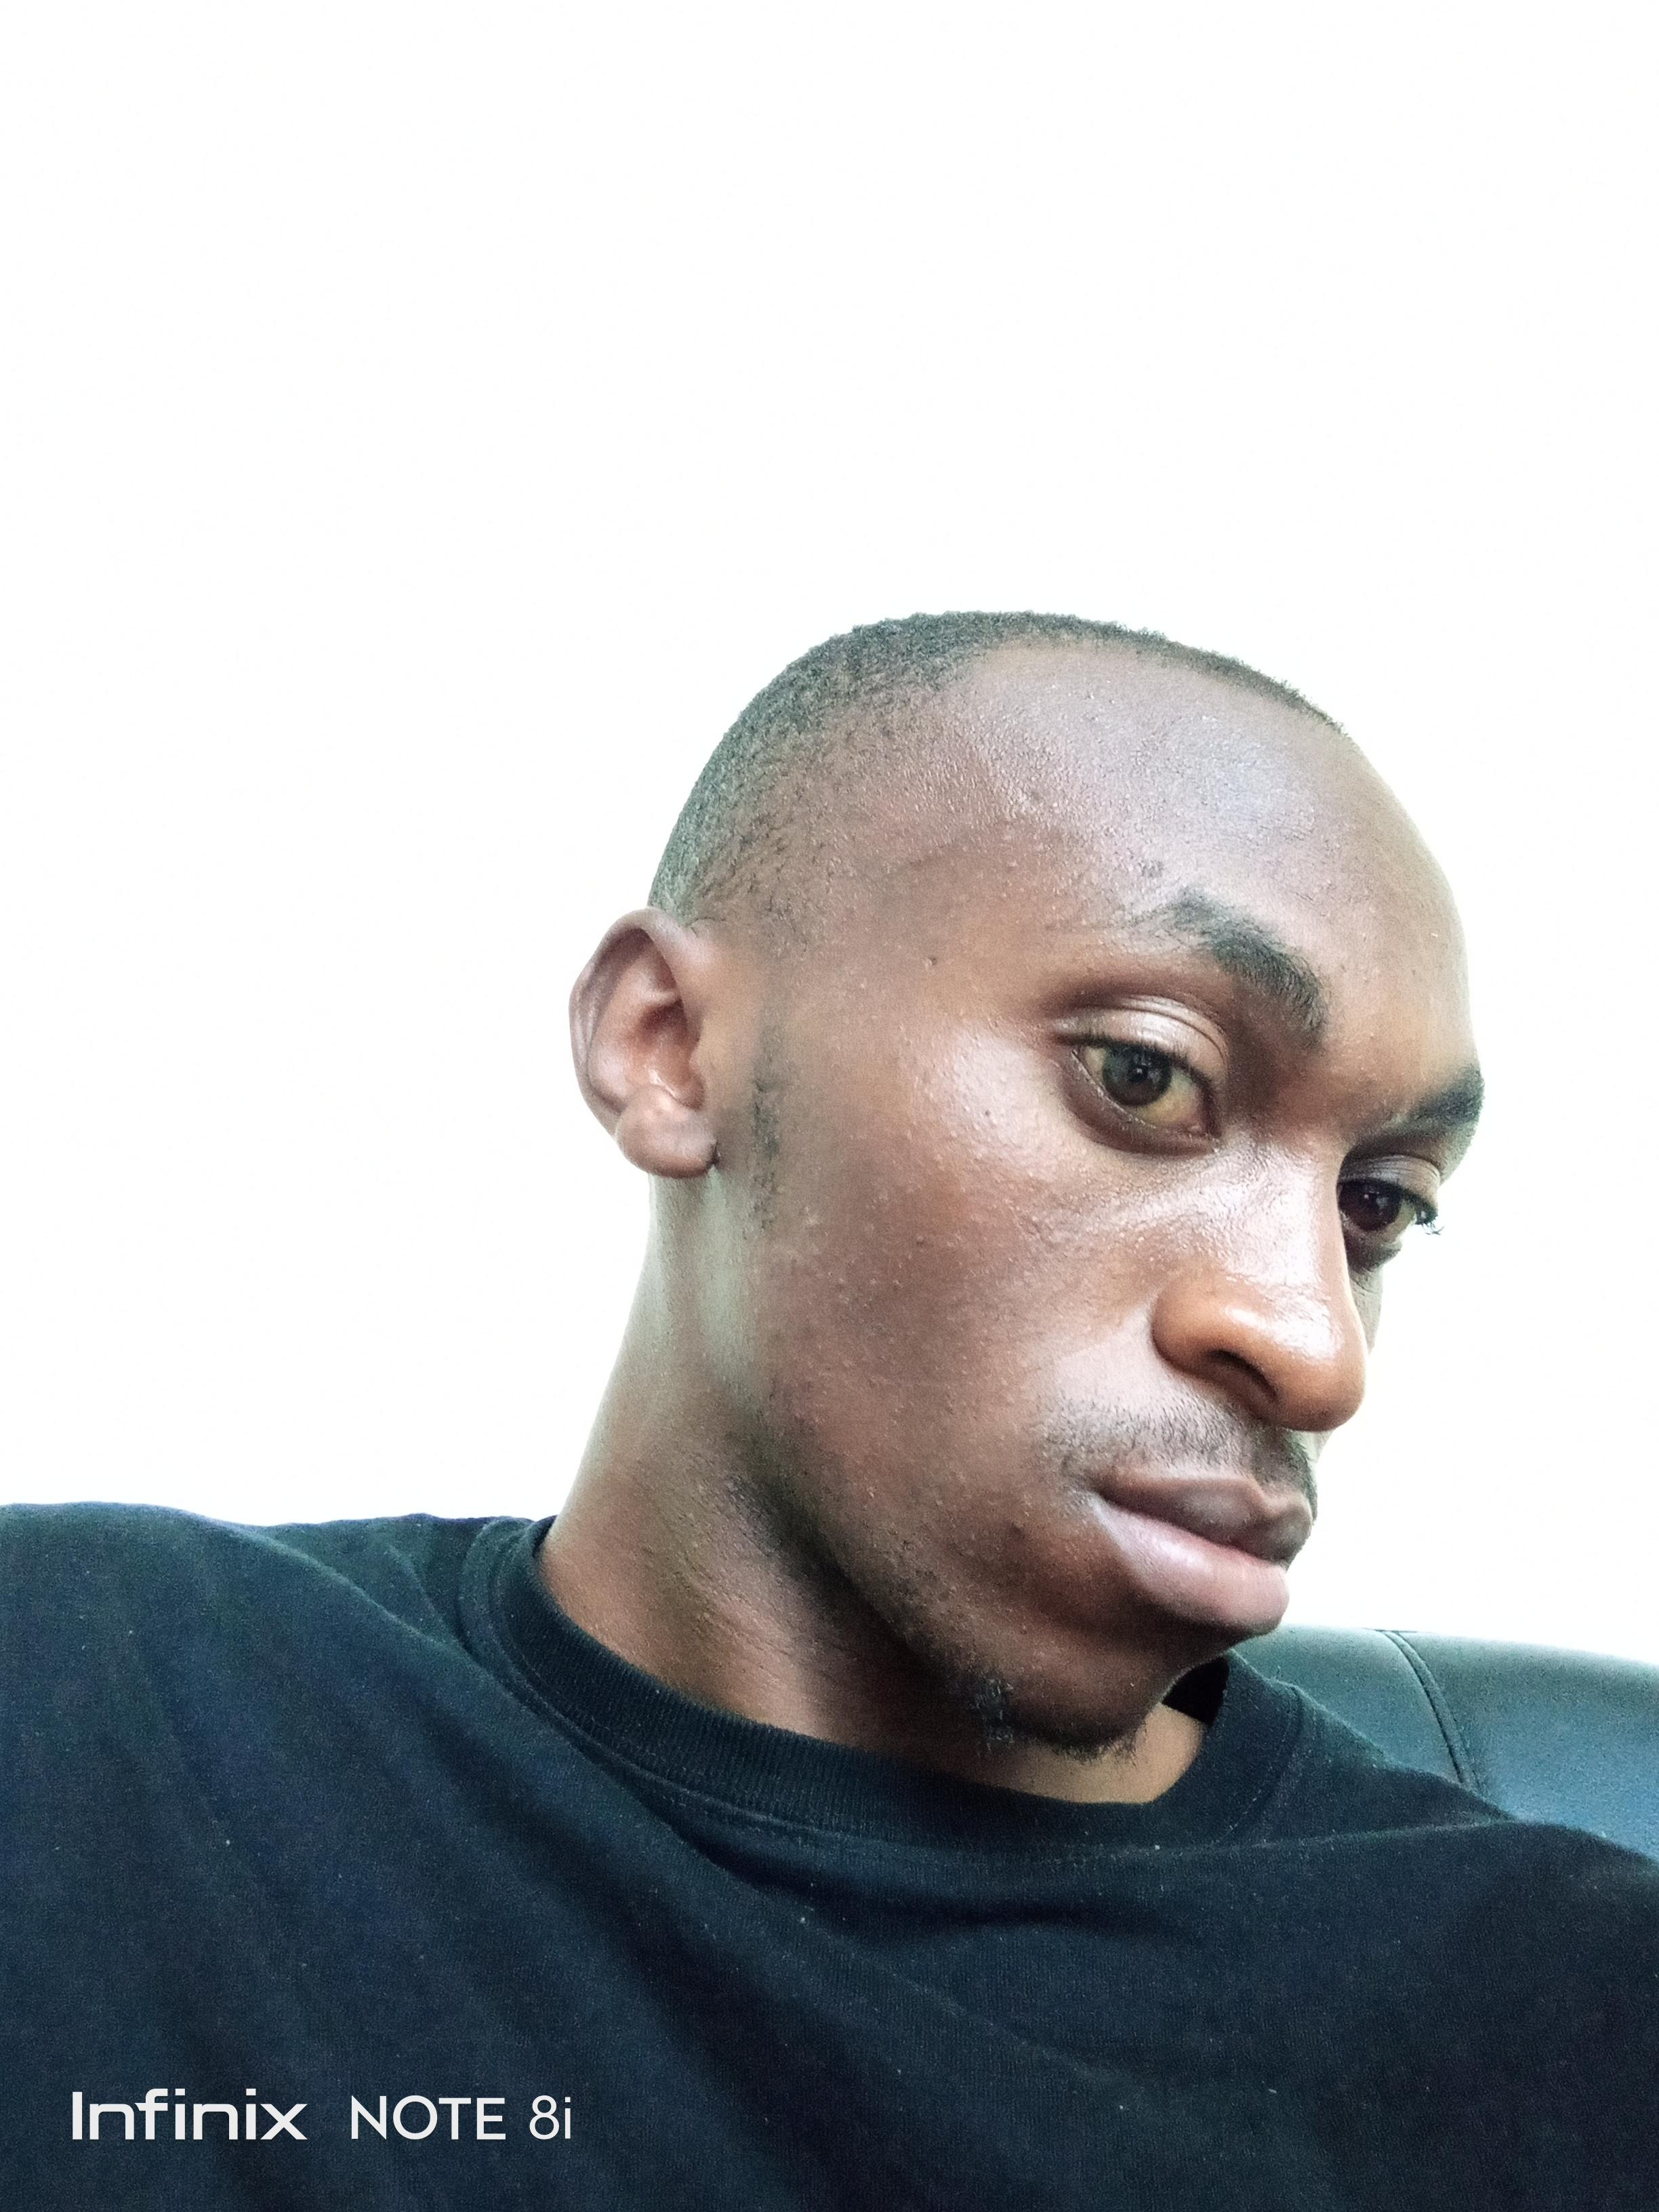Acne: (1026, 1212, 1058, 1244), (896, 1113, 920, 1144), (1007, 1519, 1026, 1534), (911, 1235, 929, 1249), (986, 1118, 1006, 1130), (889, 1275, 901, 1291), (835, 1273, 845, 1285)
Englarged-Pores: (1084, 1172, 1209, 1242)
